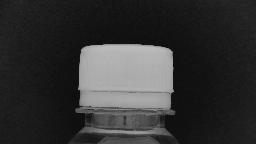Good Cap: (73, 40, 179, 122)
